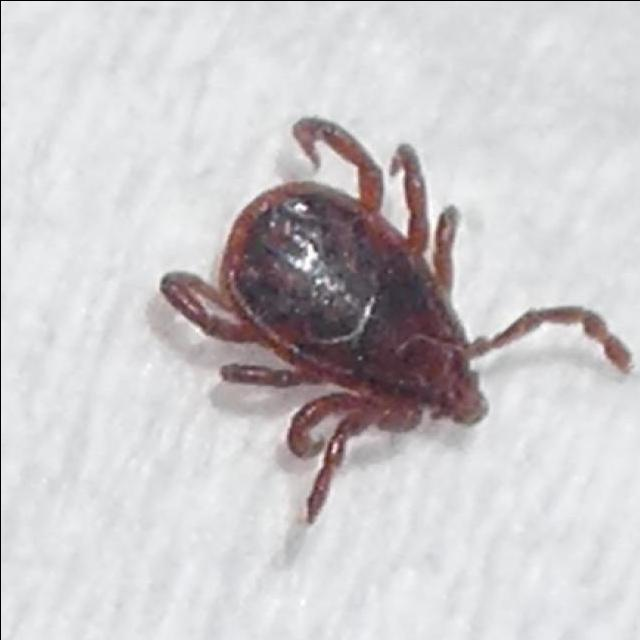Rhipicephalus Sanguineus-M: (158, 113, 625, 522)
